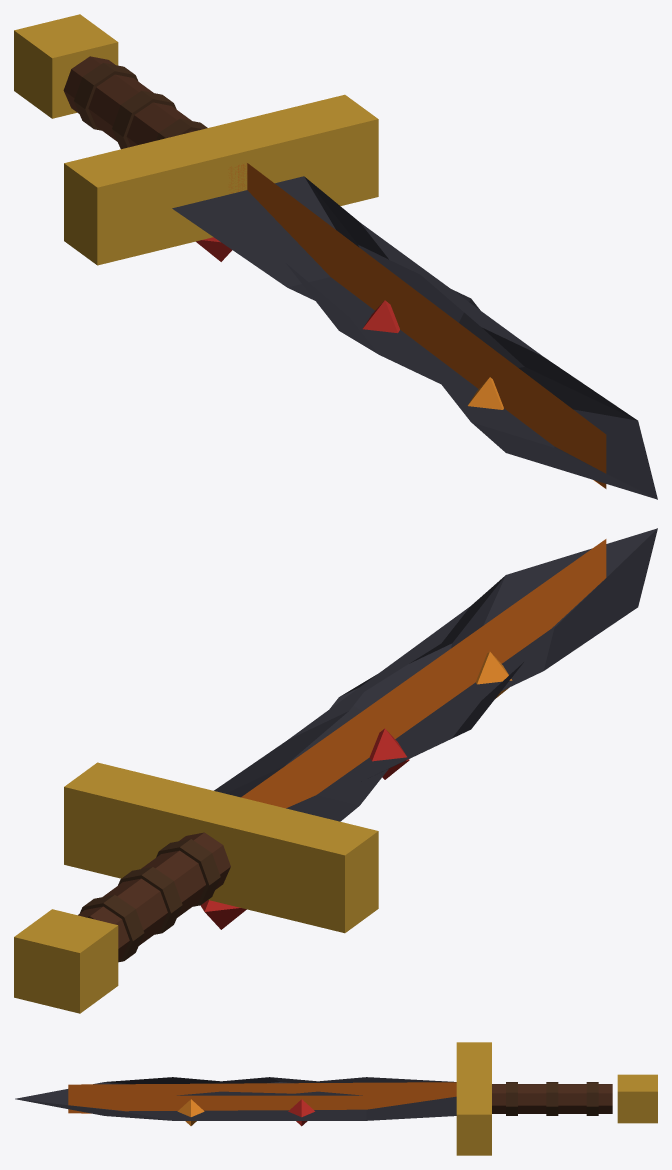
Rendered from 21_Dragonfire_Blade.glb.
3 renders of one model, top to bottom at view 1: azimuth 30°, elevation 25°; view 2: azimuth 150°, elevation 25°; view 3: azimuth 270°, elevation 25°, orthographic. The views are drawn at different scales.
Parts seen in each view (by area): view 1: 21_Dragonfire_Blade; view 2: 21_Dragonfire_Blade; view 3: 21_Dragonfire_Blade.
Part boxes in pixels (bbox=[...]): 21_Dragonfire_Blade: bbox=[14, 14, 657, 499]; 21_Dragonfire_Blade: bbox=[14, 528, 657, 1013]; 21_Dragonfire_Blade: bbox=[15, 1042, 657, 1155].
Bounding box in the file's own units: 0.34 × 0.14 × 1.28.
